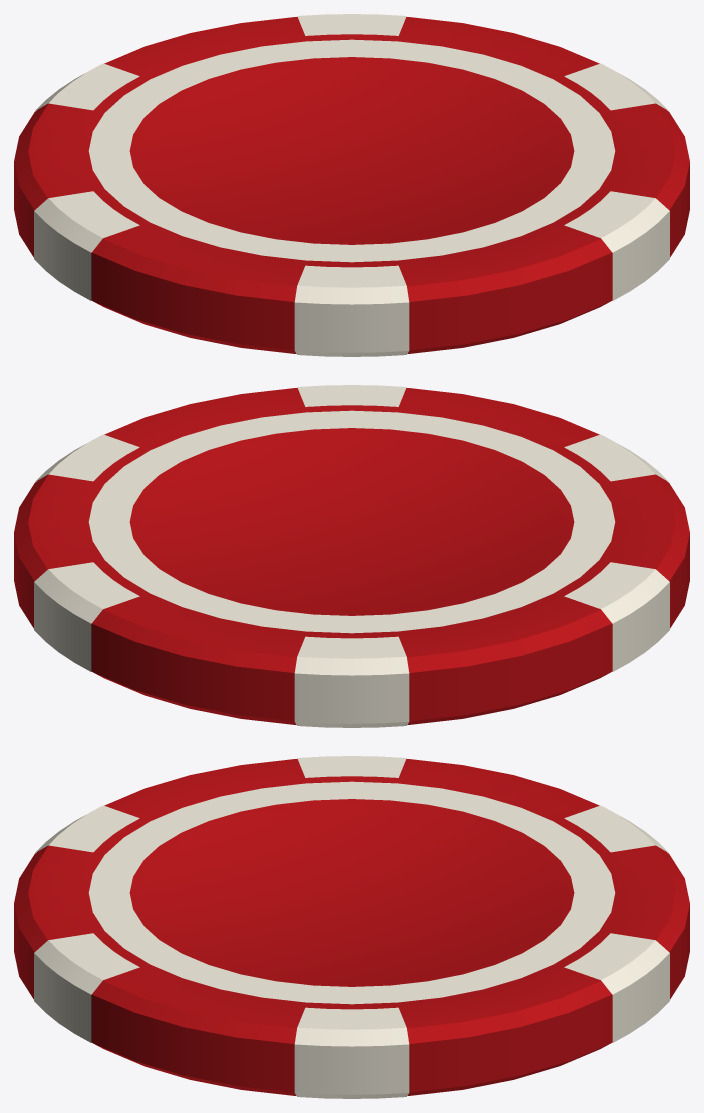
File: chip.glb
3 renders of one model, top to bottom at view 1: azimuth 30°, elevation 25°; view 2: azimuth 150°, elevation 25°; view 3: azimuth 270°, elevation 25°, orthographic.
Parts seen in each view (by area): view 1: Chip; view 2: Chip; view 3: Chip.
Part boxes in pixels (<box>): Chip: <box>14,14,689,356</box>; Chip: <box>14,385,689,727</box>; Chip: <box>14,756,689,1098</box>.
Size of the model in its own units: 0.0381 by 0.0043 by 0.038.
